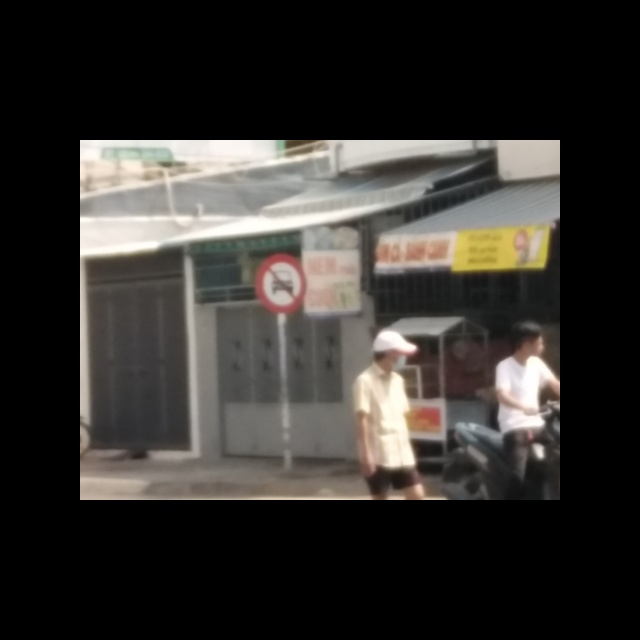Cấm xe ô tô: (253, 253, 309, 316)
